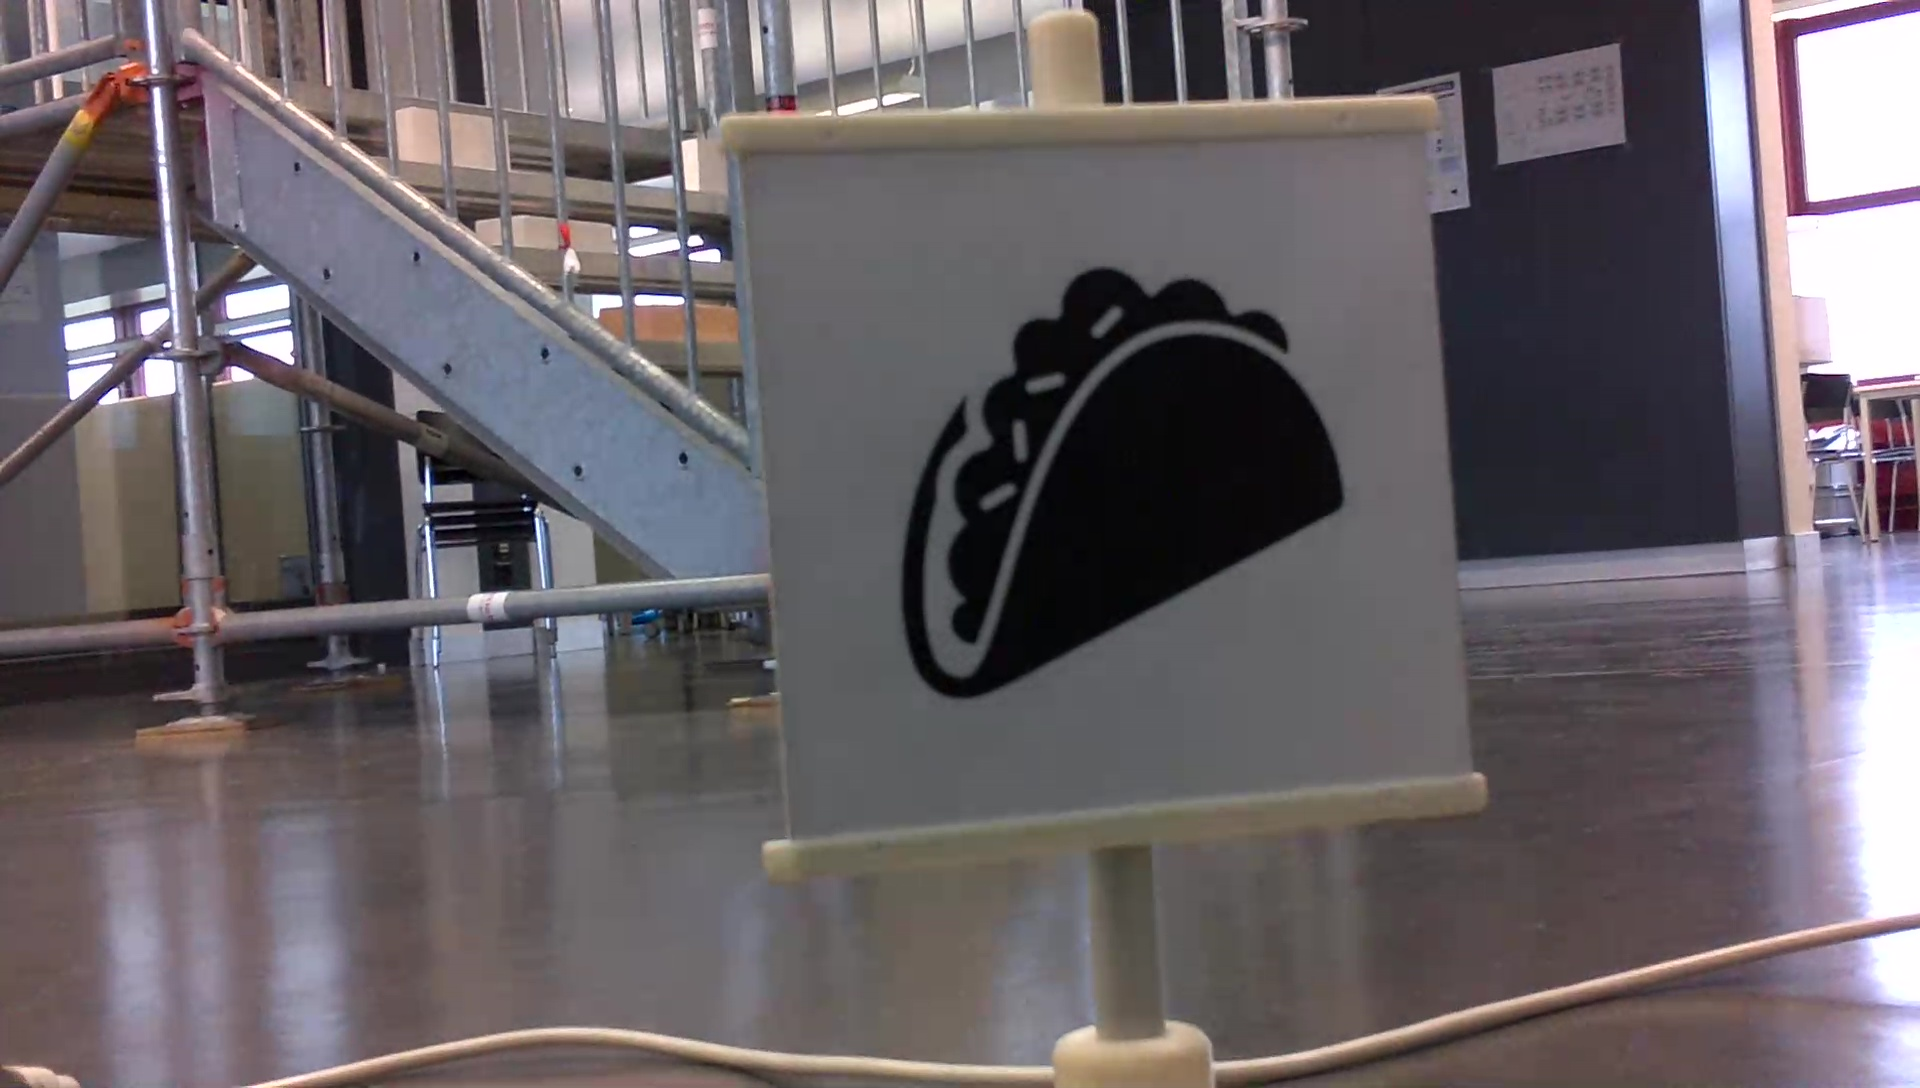taco: (880, 257, 1353, 708)
